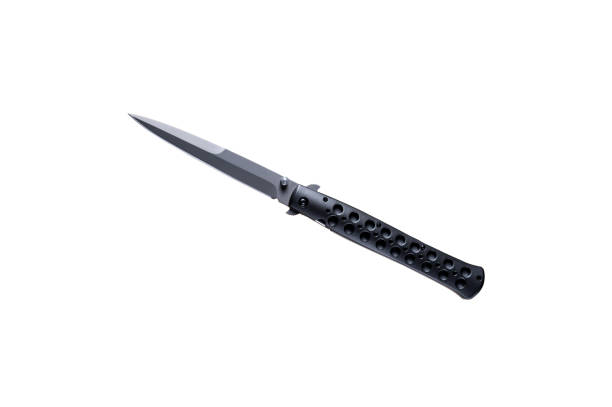knife: (125, 111, 487, 302)
